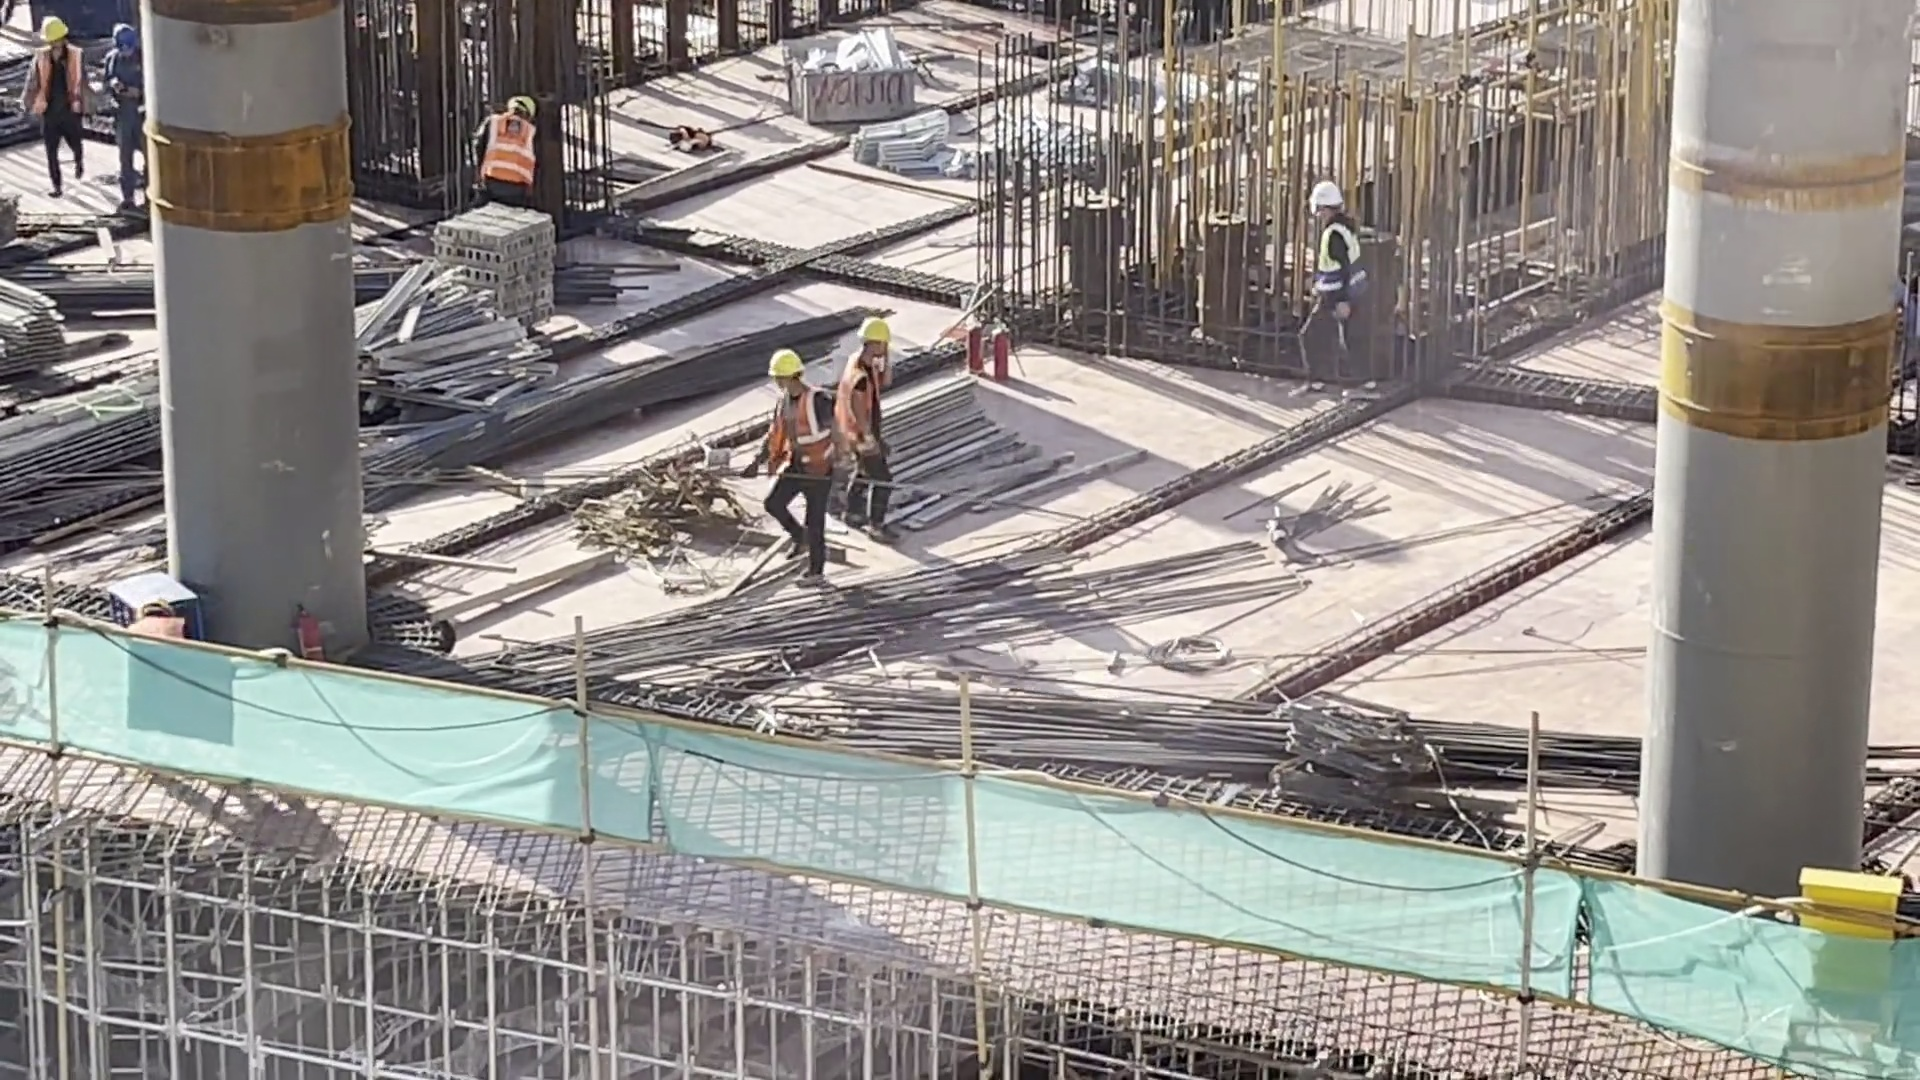helmet: (23, 13, 75, 49), (771, 342, 812, 385), (1302, 171, 1339, 211), (107, 19, 142, 53), (857, 316, 886, 348)
person: (756, 341, 844, 565), (1286, 160, 1371, 389), (86, 20, 164, 216), (21, 17, 99, 194), (474, 74, 556, 213), (840, 301, 895, 498)
vest: (770, 390, 829, 476), (476, 109, 534, 194), (31, 49, 96, 122), (835, 353, 881, 456), (1319, 230, 1367, 289)
